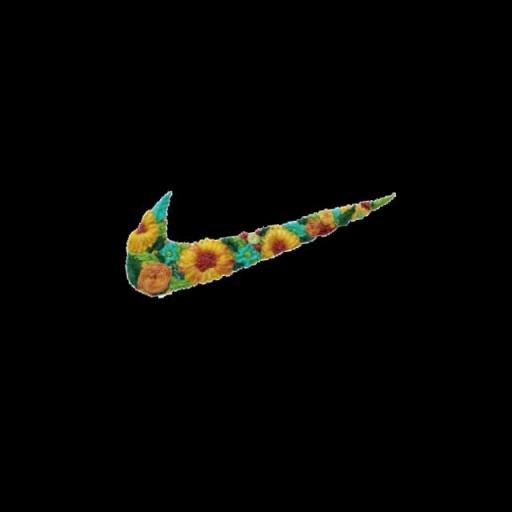Nike: (107, 153, 414, 314)
